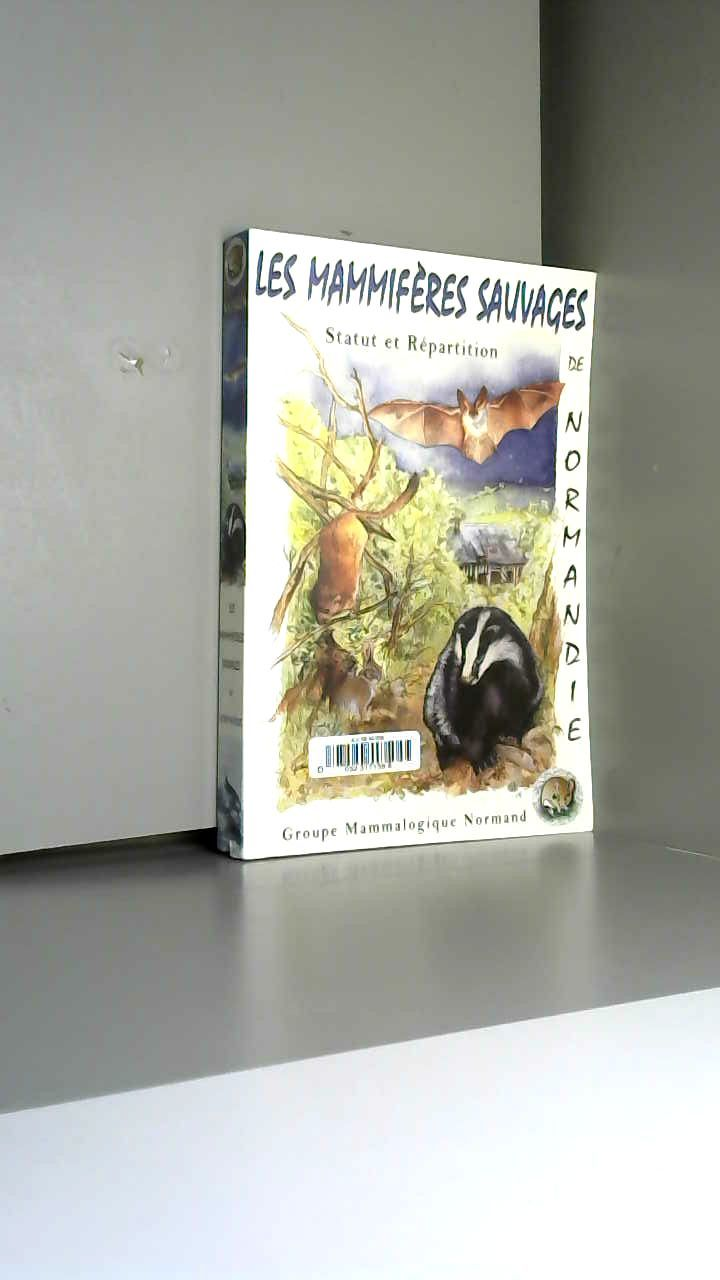book: (183, 192, 648, 897)
